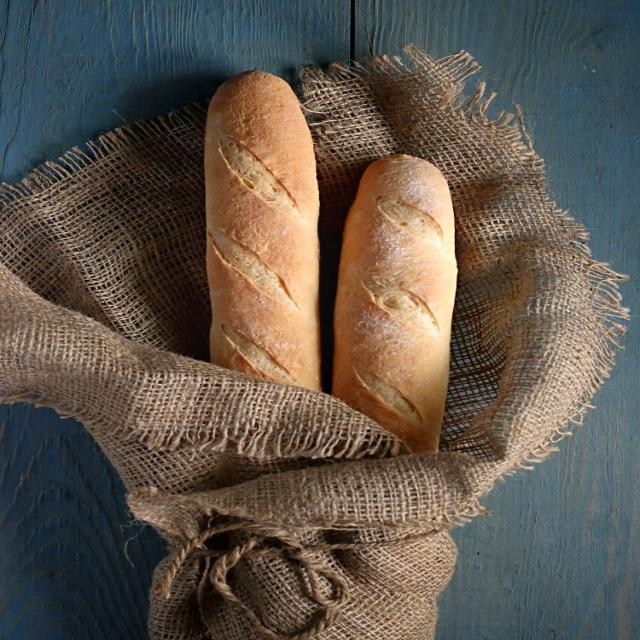Baguette: (333, 155, 457, 452), (205, 71, 319, 390)
